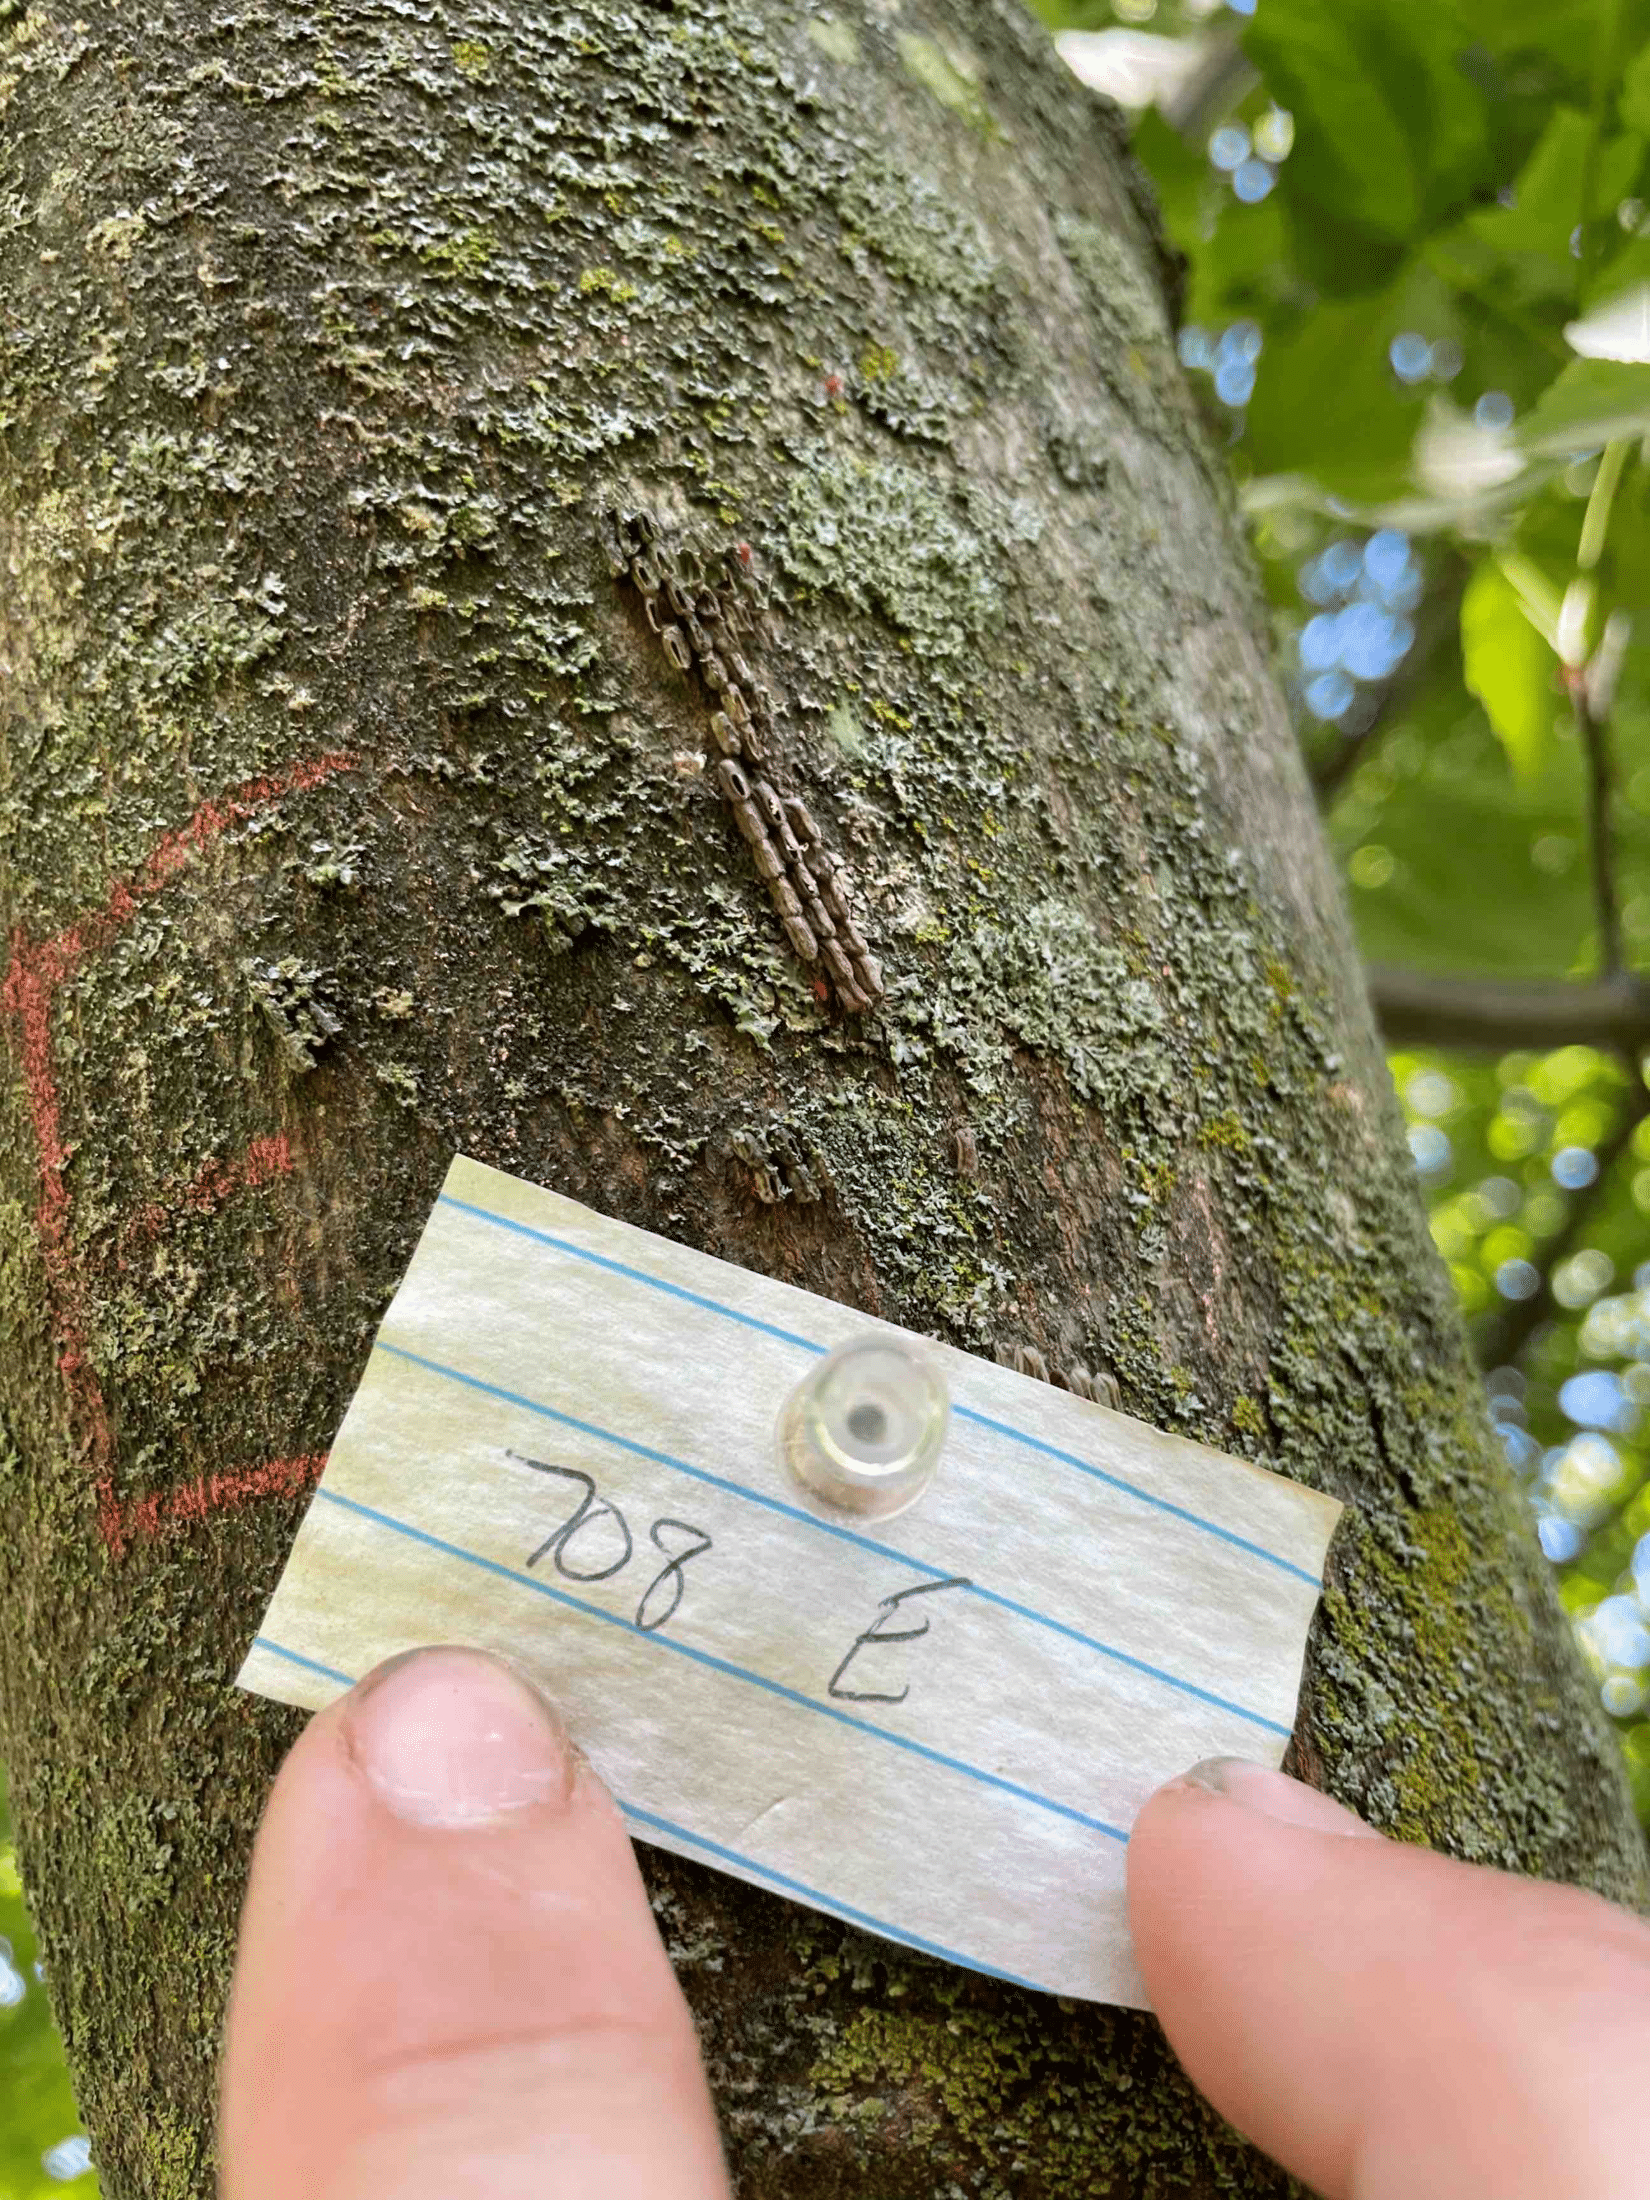egg masses: (582, 539, 957, 1046)
